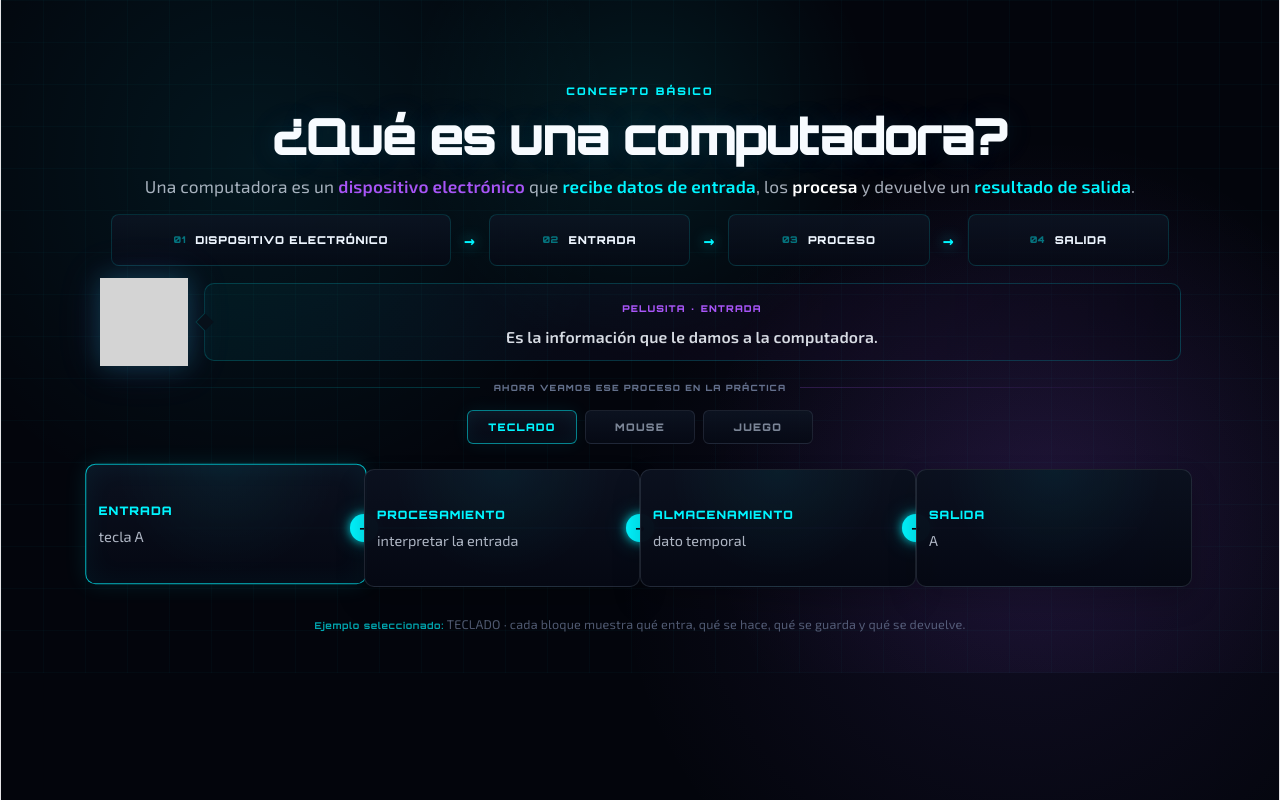
Scenario: Slide 08 concepto de computadora › Pelusita resume cada concepto en pocas palabras
Expected: the element with test id "pelusita-guide" is shown, [100,278,1180,366]
Expected: the text "Es la información que le damos a la computadora." is shown, [506,327,878,346]
Click the button "PROCESAMIENTO interpretar la entrada" at coordinates (441, 514), box [364,469,640,587]
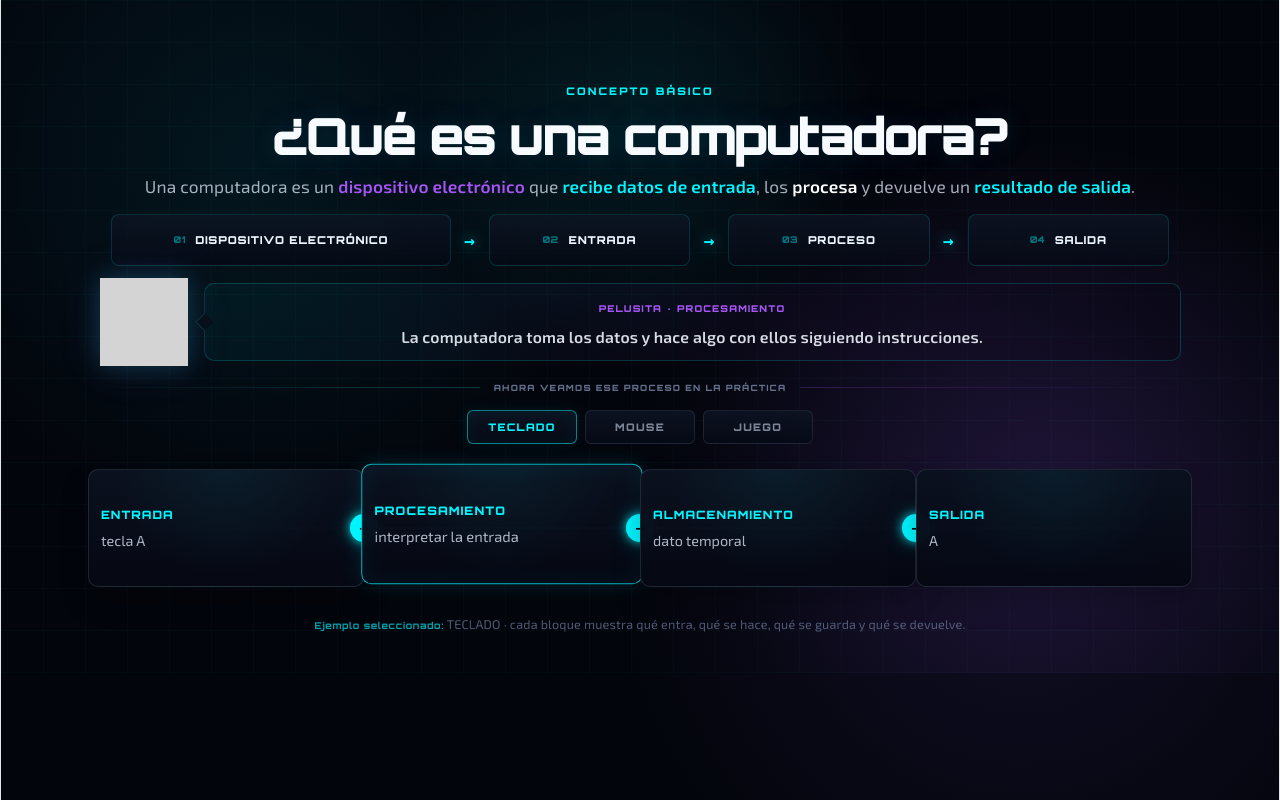
Result: the text "toma los datos y hace algo con ellos" is shown at [401,327,983,346]
Click the button "ALMACENAMIENTO dato temporal" at coordinates (723, 514), box [640,469,916,587]
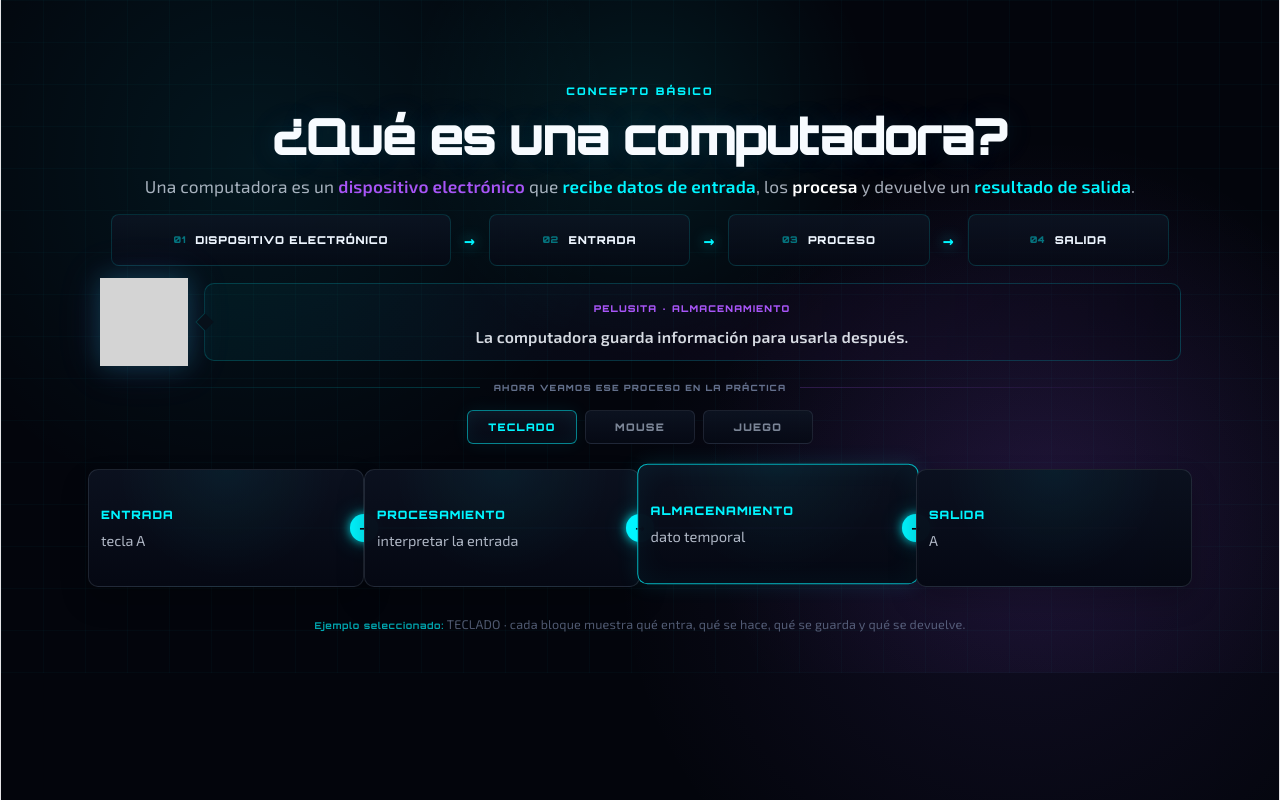
Result: the text "La computadora guarda información para usarla después." is shown at [476,327,909,346]
Click the button "SALIDA A" at coordinates (957, 514), box [916,469,1192,587]
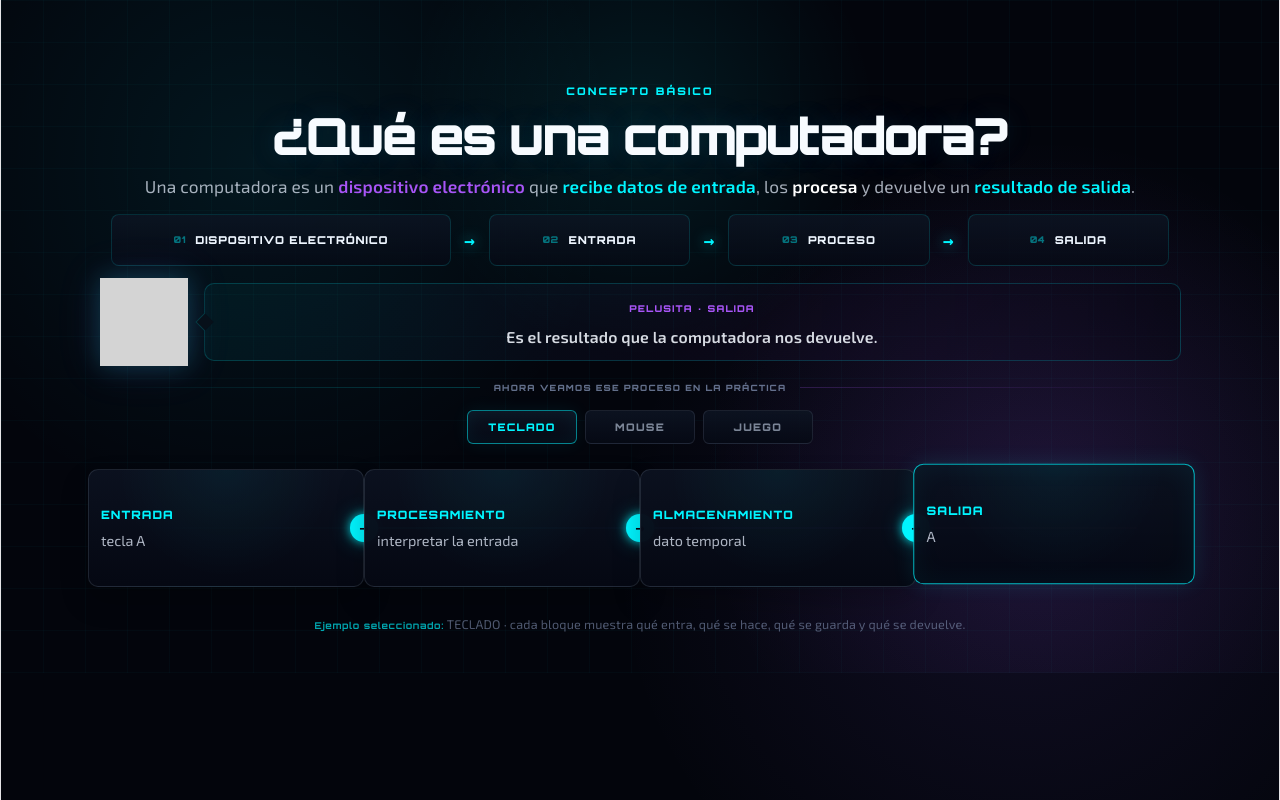
Result: the text "Es el resultado que la computadora nos devuelve." is shown at [506,327,878,346]
